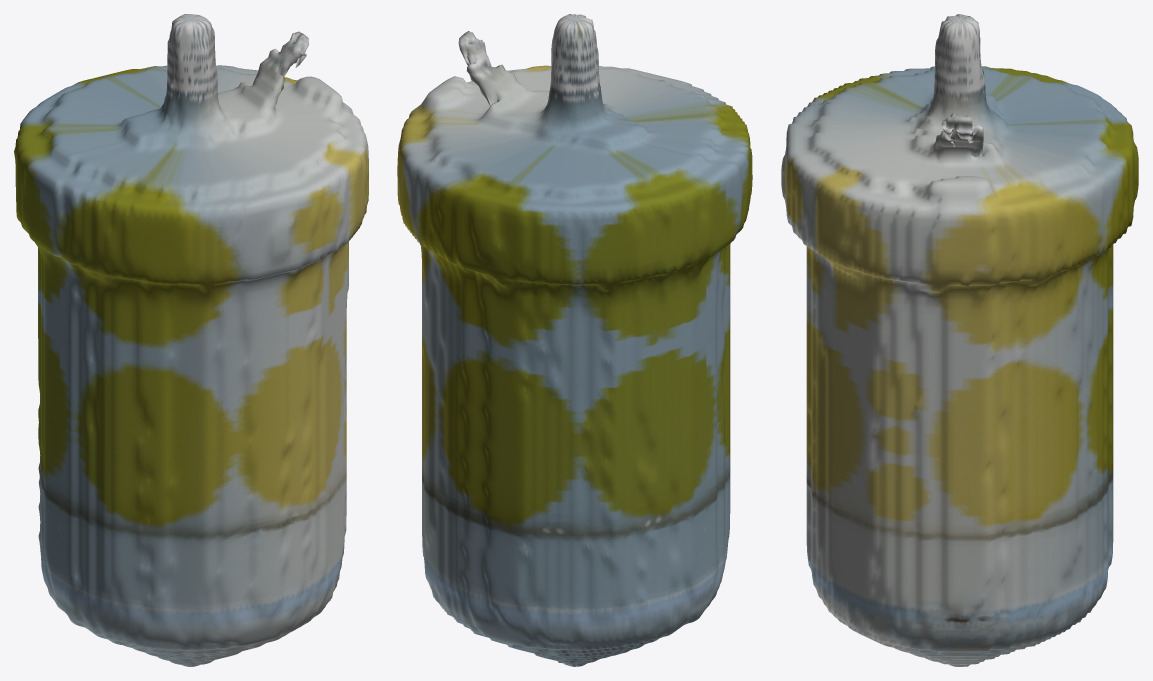
Rendered from asset.obj.
The picture shows the model from 3 angles, left to right: view 1: azimuth 30°, elevation 25°; view 2: azimuth 150°, elevation 25°; view 3: azimuth 270°, elevation 25°; orthographic projection.
Parts seen in each view (by area): view 1: syncom_bottle; view 2: syncom_bottle; view 3: syncom_bottle.
Part boxes in pixels (x1,y1,x2,y2): syncom_bottle: (14,14,368,666); syncom_bottle: (397,14,752,666); syncom_bottle: (781,14,1138,666).
Bounding box in the file's own units: 0.089 × 0.18 × 0.0904.
Materials: 1 (1 with a texture image).
